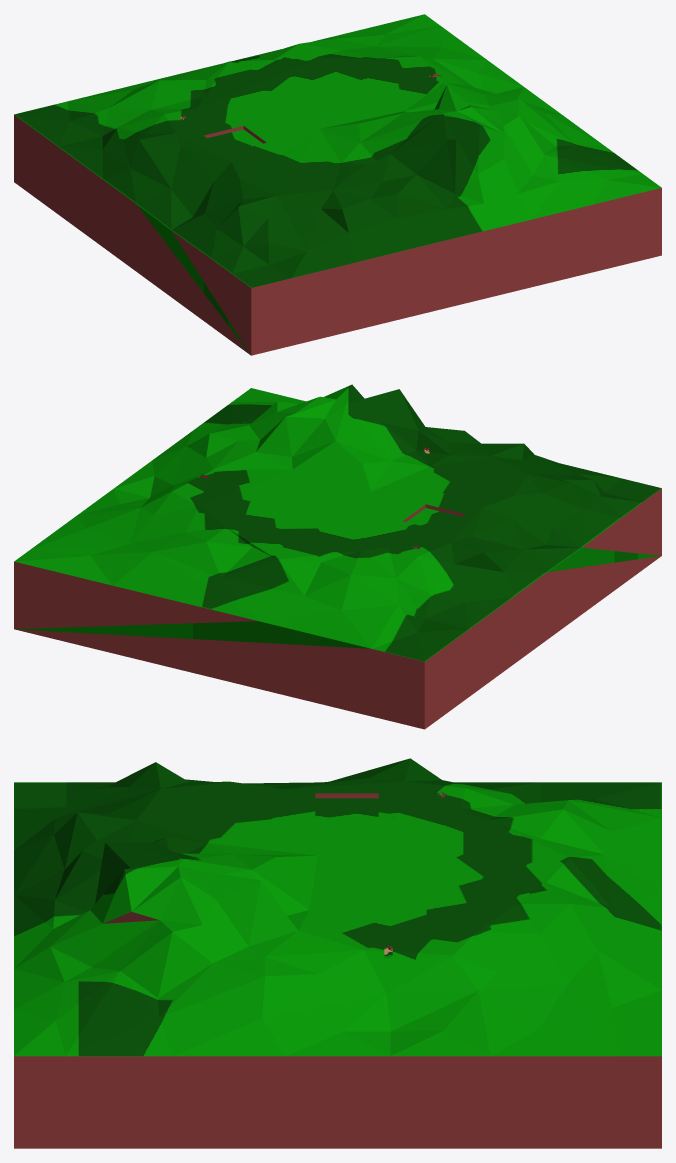
Rendered from terrain-textured.obj.
3 views of the same model, one above another, from view 1: azimuth 30°, elevation 25°; view 2: azimuth 150°, elevation 25°; view 3: azimuth 270°, elevation 25° (orthographic). The views are drawn at different scales.
Visible parts, largest first — view 1: mesh-1-terrain_mtl, mesh-1-dirt_mtl, mesh-1-dirt_mtl-terrain_mtl; view 2: mesh-1-terrain_mtl, mesh-1-dirt_mtl, mesh-1-dirt_mtl-terrain_mtl; view 3: mesh-1-terrain_mtl, mesh-1-dirt_mtl, mesh-1-dirt_mtl-terrain_mtl.
Part boxes in pixels (x1,y1,x2,y2): mesh-1-terrain_mtl: (14, 14, 661, 287); mesh-1-dirt_mtl: (14, 74, 661, 355); mesh-1-dirt_mtl-terrain_mtl: (136, 75, 503, 353); mesh-1-terrain_mtl: (14, 384, 661, 661); mesh-1-dirt_mtl: (14, 447, 661, 729); mesh-1-dirt_mtl-terrain_mtl: (18, 417, 660, 648); mesh-1-terrain_mtl: (14, 758, 661, 1056); mesh-1-dirt_mtl: (14, 792, 661, 1148); mesh-1-dirt_mtl-terrain_mtl: (90, 793, 567, 952).
Bounding box in the file's own units: 1024 × 323 × 1024.
